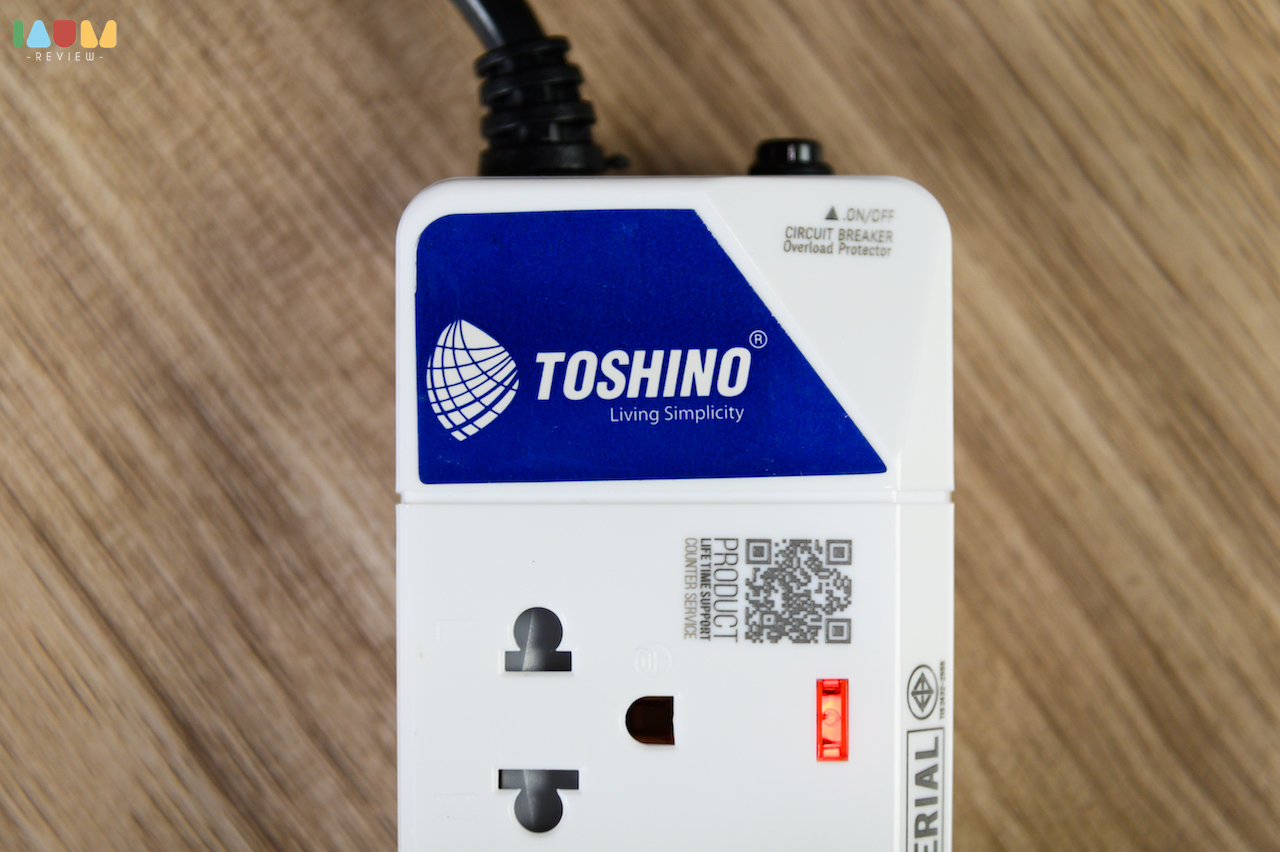Three_eye_plug: (368, 159, 971, 852)
